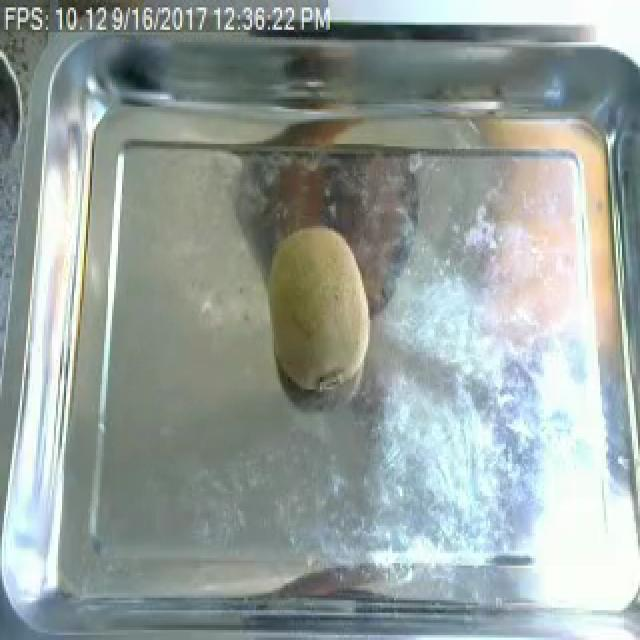Fruit: (256, 216, 380, 402)
